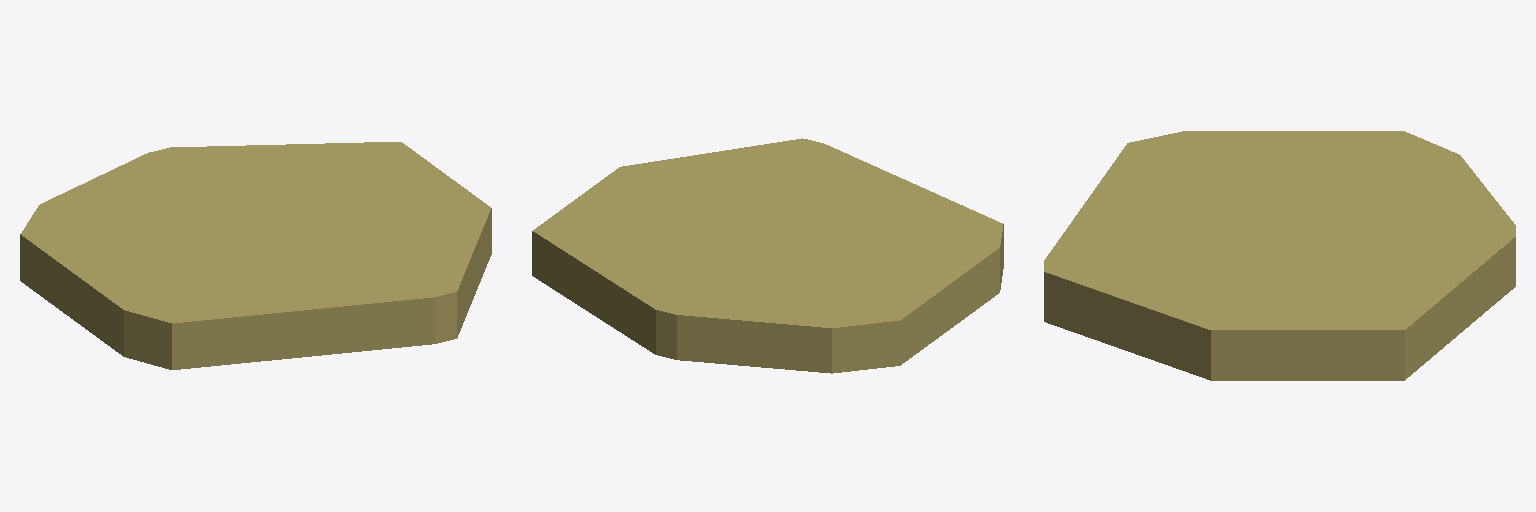
The robot description file, URDF, robot "table":
<?xml version="1.0"?>
<robot name="table">
  <!-- The table top of DSLR camera: a static convex slab, top face at z = 0. Load with a fixed base -->
  <mujoco>
    <compiler meshdir="../meshes/" discardvisual="true" balanceinertia="true" fusestatic="false" />
  </mujoco>
  <link name="table">
    <inertial>
      <mass value="20" />
      <inertia ixx="1" ixy="0" ixz="0" iyy="1" iyz="0" izz="1" />
    </inertial>
    <visual>
      <geometry>
        <mesh filename="../meshes/table.obj" />
      </geometry>
      <material name="table_color">
        <color rgba="0.71 0.667 0.427 1" />
      </material>
    </visual>
    <collision>
      <geometry>
        <mesh filename="../meshes/table.obj" />
      </geometry>
    </collision>
    <contact>
      <lateral_friction value="1" />
    </contact>
  </link>
</robot>

--- Render facts (derived) ---
The picture shows the robot from 3 angles, left to right: view 1: azimuth 30°, elevation 25°; view 2: azimuth 150°, elevation 25°; view 3: azimuth 270°, elevation 25°; orthographic projection.
Model table with 1 links and 0 joints (none), rooted at table, posed all joints at 0.
Links seen in each view (by area): view 1: table; view 2: table; view 3: table.
Boxes of the visible links, bbox=[...] form: table: bbox=[20, 142, 491, 369]; table: bbox=[532, 138, 1003, 373]; table: bbox=[1044, 131, 1515, 380].
Bounding box of the posed robot: 0.34 × 0.34 × 0.04 m (x, y, z).
Meshes: 1 distinct files referenced, 1 mesh visuals loaded (1 OBJ).
